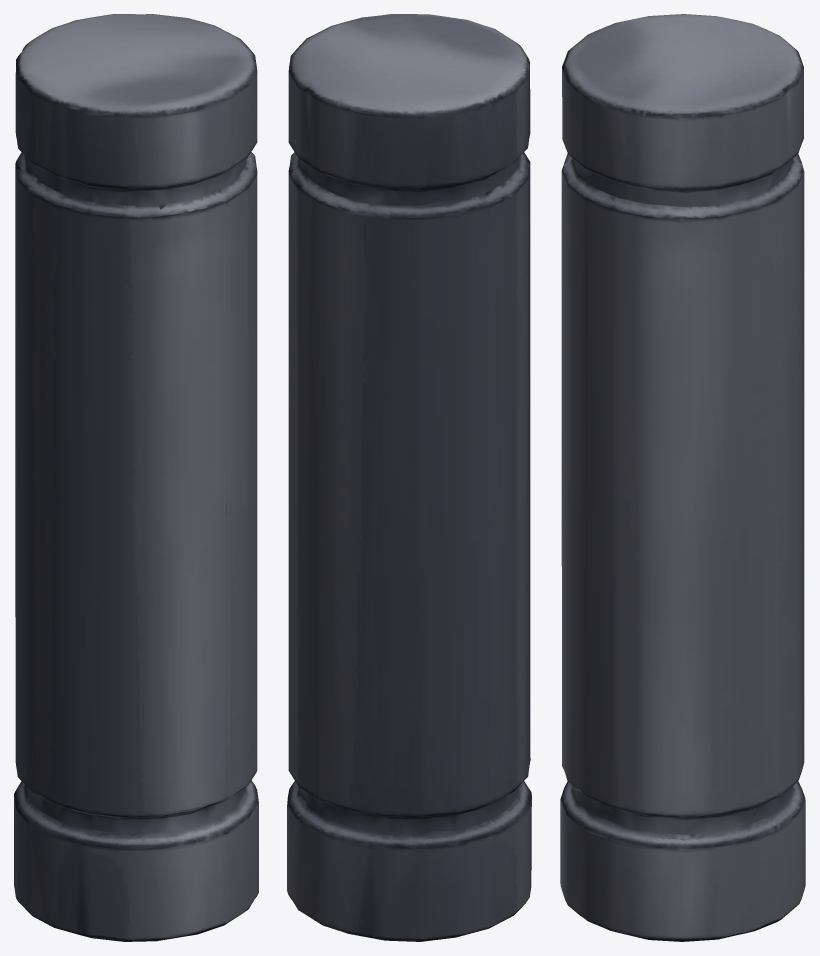
Rendered from bollard.glb.
The picture shows the model from 3 angles, left to right: view 1: azimuth 30°, elevation 25°; view 2: azimuth 150°, elevation 25°; view 3: azimuth 270°, elevation 25°; orthographic projection.
Visible parts, largest first — view 1: body; view 2: body; view 3: body.
Part boxes in pixels (x1=…): body: x1=14, y1=14, x2=258, y2=941; body: x1=287, y1=14, x2=531, y2=941; body: x1=560, y1=14, x2=805, y2=941.
Size of the model in its own units: 0.2397 by 0.8998 by 0.2394.
1 material, 1 textured.
